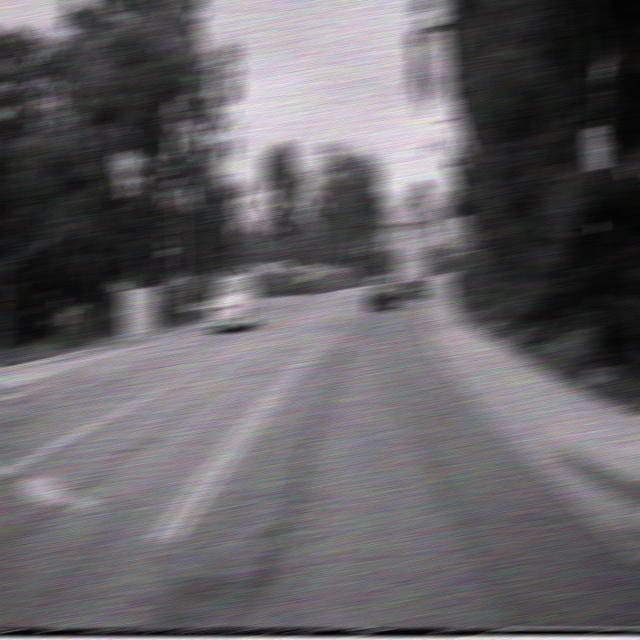speedLimit25: (452, 215, 471, 255)
